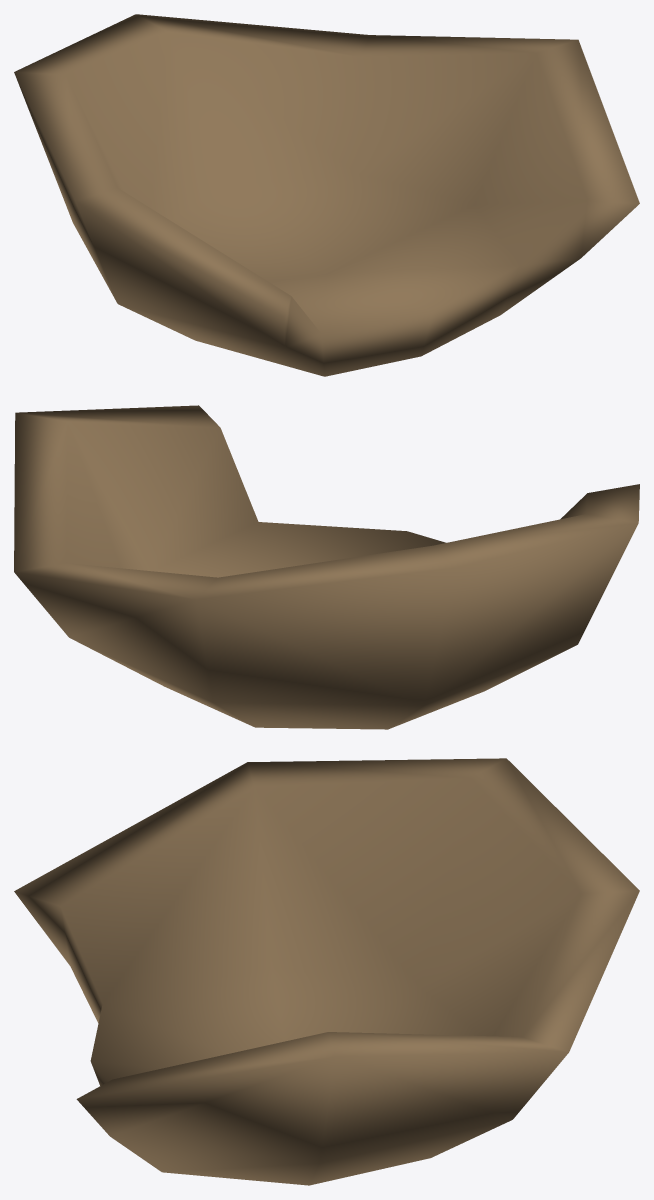
File: rpgpp_av_bowl_wood_01.gltf
3 renders of one model, top to bottom at view 1: azimuth 30°, elevation 25°; view 2: azimuth 150°, elevation 25°; view 3: azimuth 270°, elevation 25°, orthographic. The views are drawn at different scales.
Parts seen in each view (by area): view 1: rpgpp_av_bowl_wood_01; view 2: rpgpp_av_bowl_wood_01; view 3: rpgpp_av_bowl_wood_01.
Part boxes in pixels (<box>): rpgpp_av_bowl_wood_01: <box>14,14,639,376</box>; rpgpp_av_bowl_wood_01: <box>14,405,639,729</box>; rpgpp_av_bowl_wood_01: <box>14,758,639,1185</box>.
Size of the model in its own units: 0.00372 by 0.00138 by 0.00334.
1 material, 1 textured.
